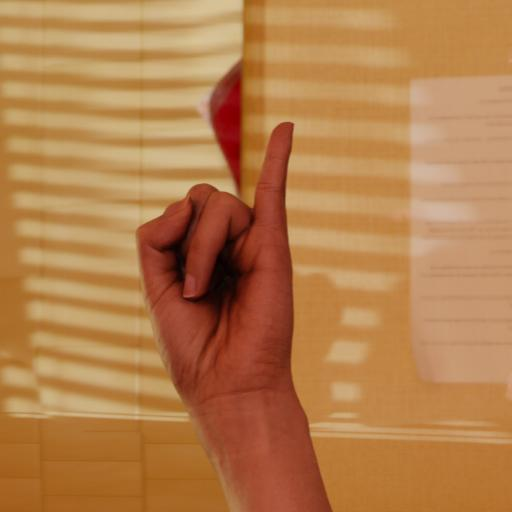I: (128, 120, 310, 389)
